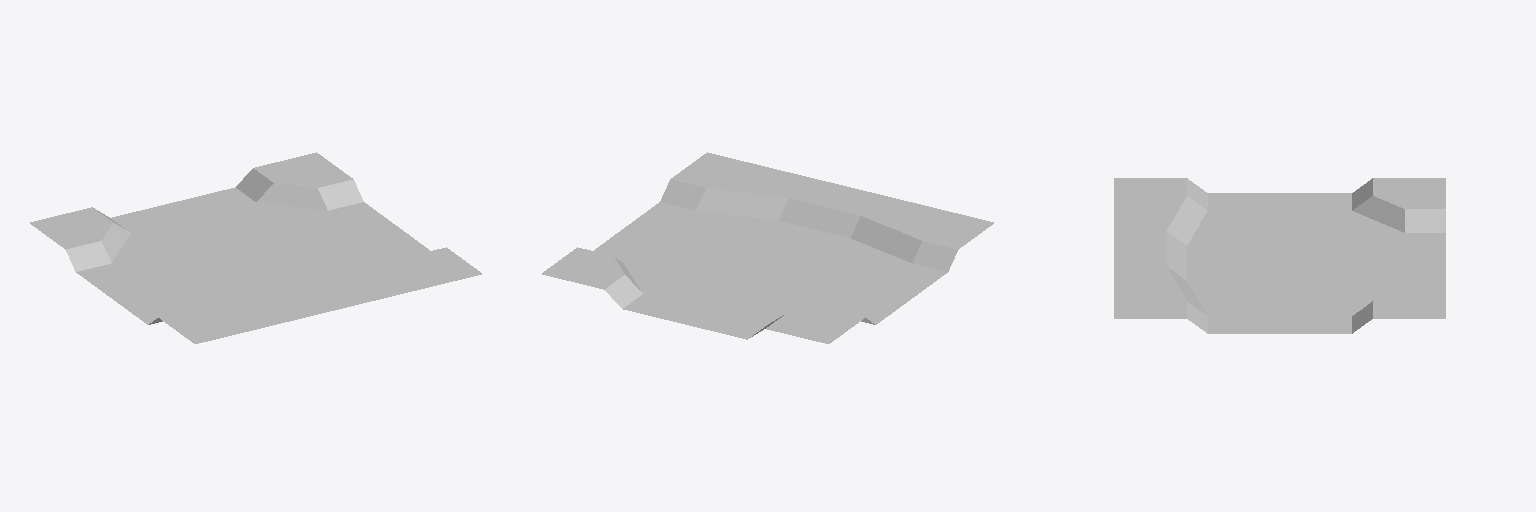
Rendered from ground_pathSplit.obj.
3 views of the same model, side by side, from view 1: azimuth 30°, elevation 25°; view 2: azimuth 150°, elevation 25°; view 3: azimuth 270°, elevation 25° (orthographic).
Visible parts, largest first — view 1: ground_pathSplit; view 2: ground_pathSplit; view 3: ground_pathSplit.
Boxes of the visible parts, <box> form: ground_pathSplit: <box>30,152,481,343</box>; ground_pathSplit: <box>542,152,993,343</box>; ground_pathSplit: <box>1114,178,1445,333</box>.
Size of the model in its own units: 1 by 0.05 by 1.